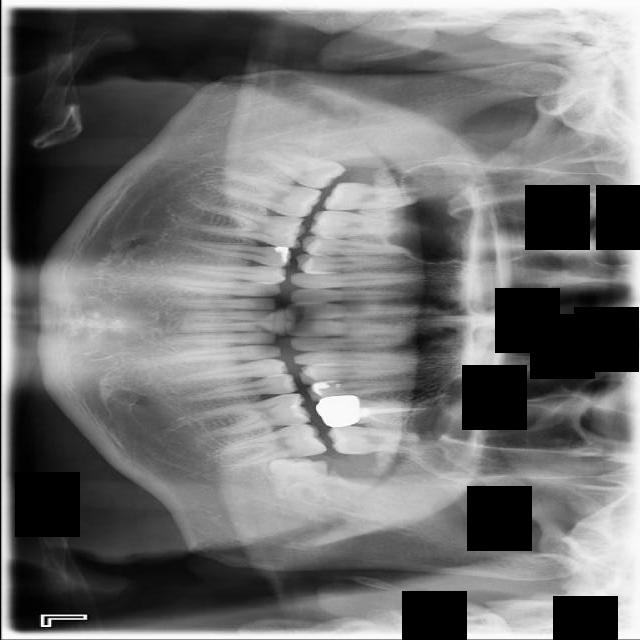52: (313, 394, 361, 428), (253, 244, 293, 269), (305, 380, 348, 402)
73: (349, 397, 435, 433), (76, 598, 84, 609)
BioHorizons Implant: (325, 425, 424, 457)
Biomet 3i Implant: (267, 456, 327, 500)
Blue Sky Bio Implant: (217, 419, 328, 471)
Caries: (321, 182, 419, 211)
Implant: (216, 171, 321, 222)
Keystone Dental Implant: (256, 144, 345, 196)
